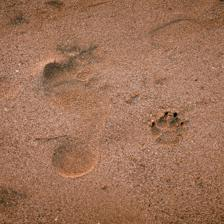dog: (146, 111, 195, 151)
